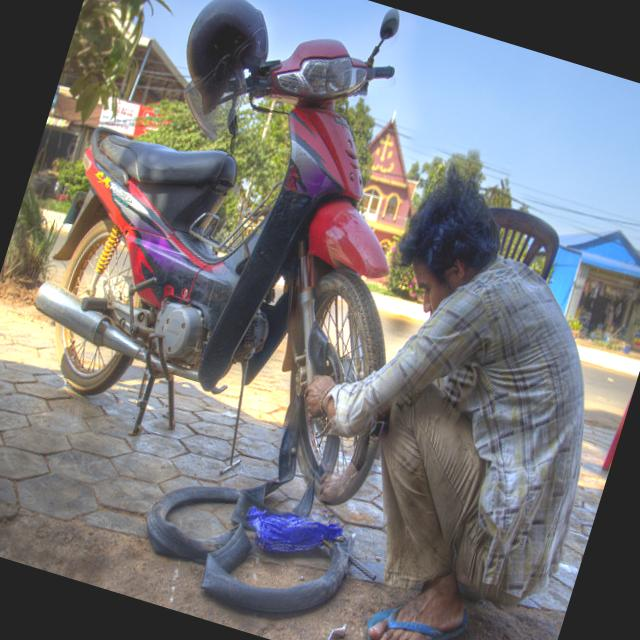Vehicle: (0, 0, 501, 518)
